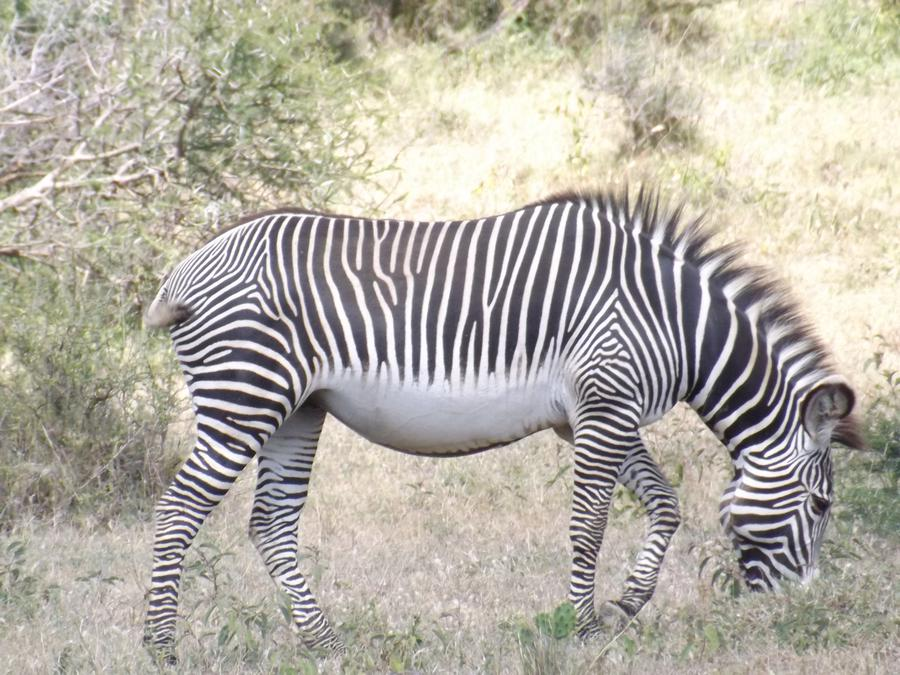zebra_grevys: (144, 201, 649, 426)
